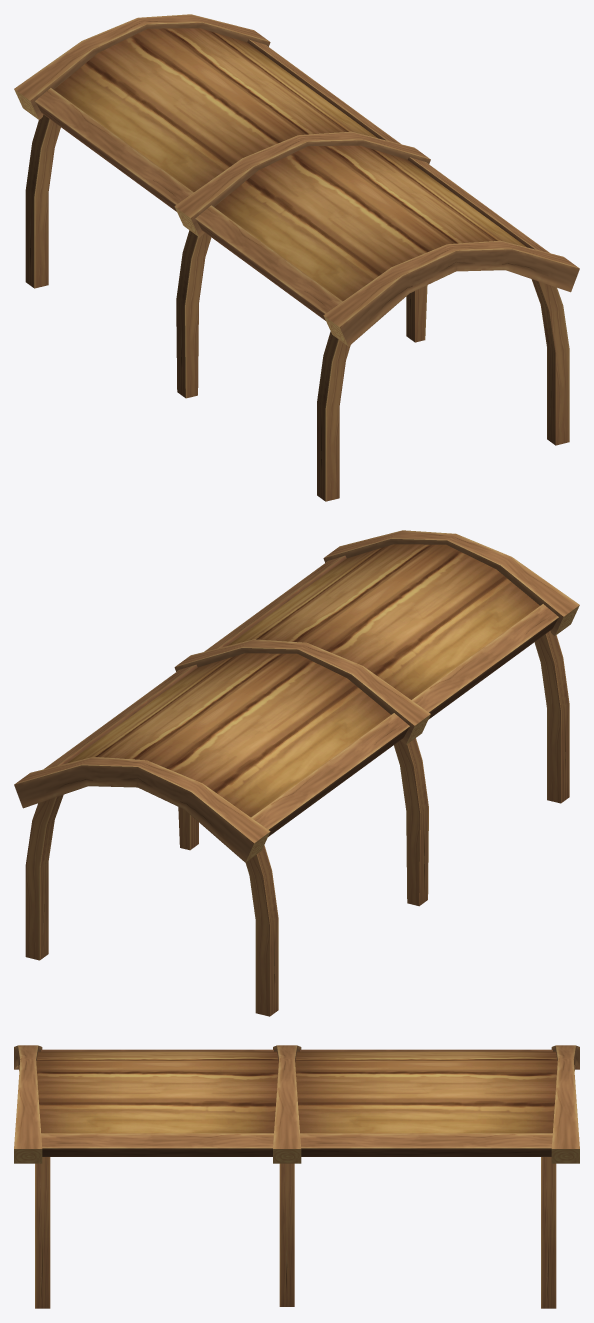
File: bridge_02a_upperside_tile_01.fbx
3 views of the same model, one above another, from view 1: azimuth 30°, elevation 25°; view 2: azimuth 150°, elevation 25°; view 3: azimuth 270°, elevation 25° (orthographic). The views are drawn at different scales.
Parts seen in each view (by area): view 1: bridge_02a_upperside_tile_01; view 2: bridge_02a_upperside_tile_01; view 3: bridge_02a_upperside_tile_01.
Part boxes in pixels (bbox=[...]): bridge_02a_upperside_tile_01: bbox=[14, 14, 579, 501]; bridge_02a_upperside_tile_01: bbox=[14, 530, 579, 1016]; bridge_02a_upperside_tile_01: bbox=[14, 1045, 579, 1308].
Bounding box in the file's own units: 1.89 × 1.69 × 4.38.
